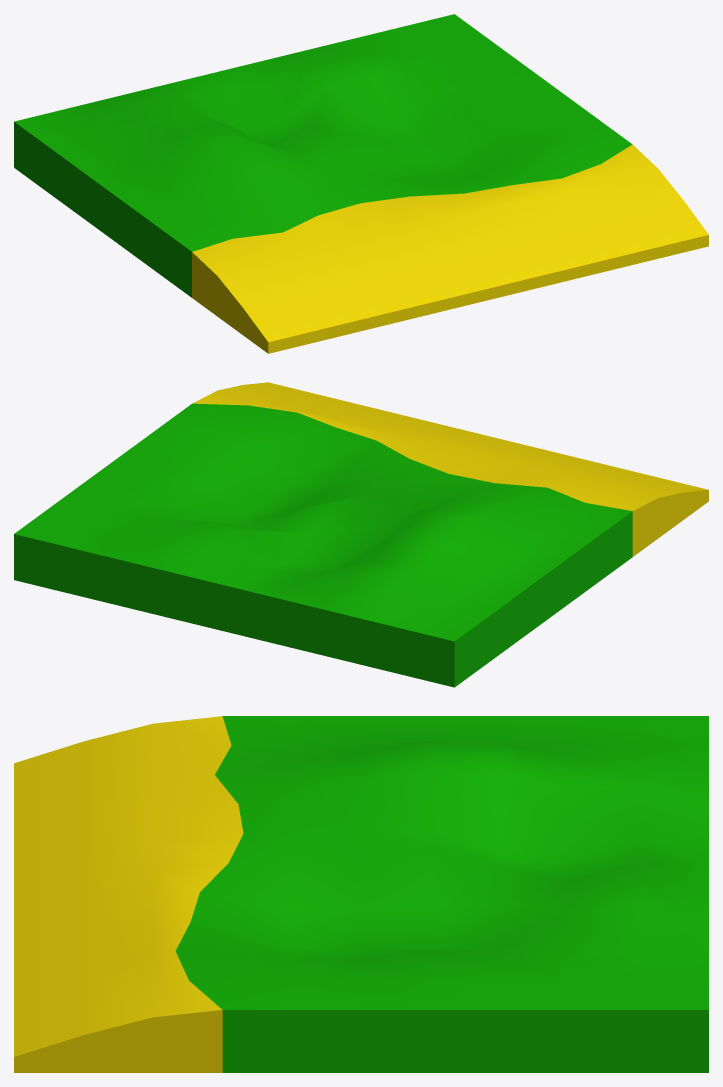
File: island_lateral_00.fbx
The picture shows the model from 3 angles, top to bottom: view 1: azimuth 30°, elevation 25°; view 2: azimuth 150°, elevation 25°; view 3: azimuth 270°, elevation 25°; orthographic projection. The views are drawn at different scales.
Visible parts, largest first — view 1: Box001; view 2: Box001; view 3: Box001.
Part boxes in pixels (<box>): Box001: <box>14,14,708,353</box>; Box001: <box>14,382,708,687</box>; Box001: <box>14,716,708,1072</box>.
Bounding box in the file's own units: 400 × 61.59 × 400.
